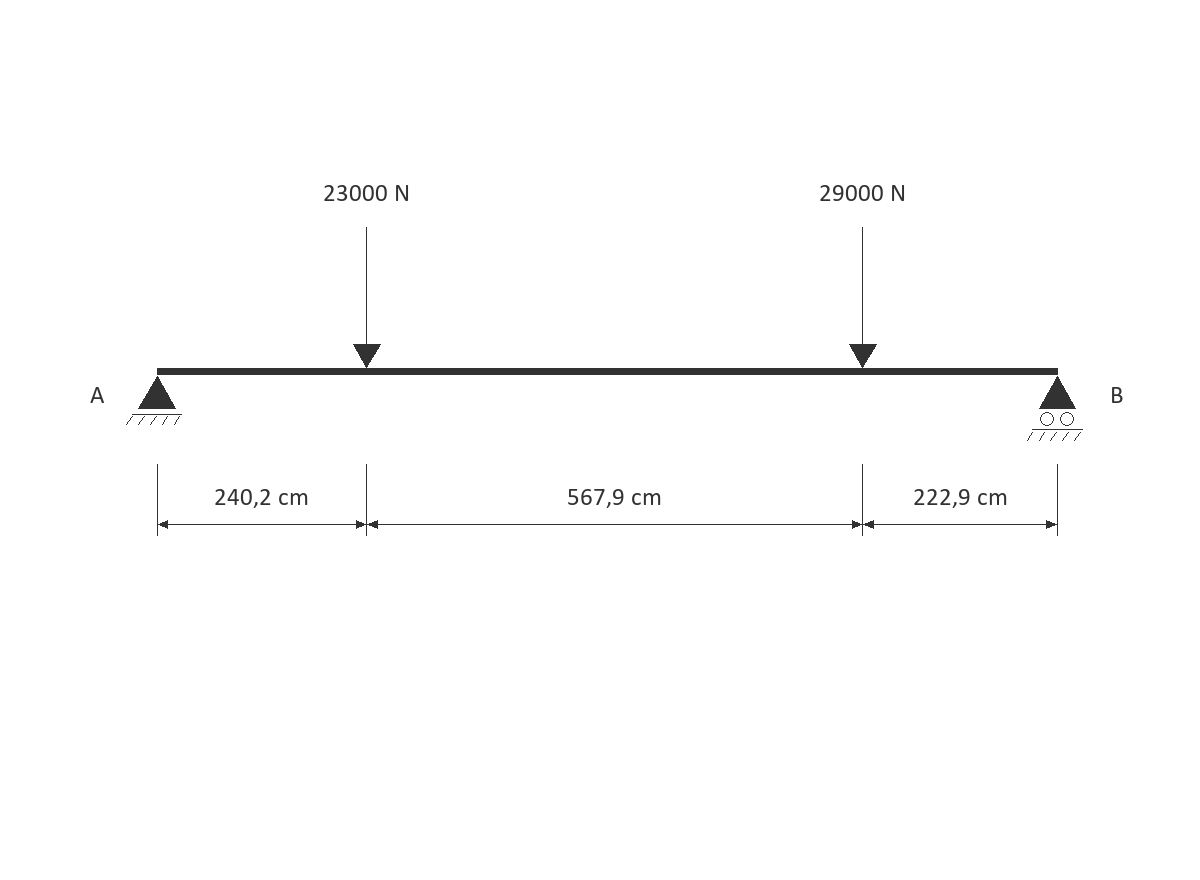pin_support: (126, 376, 182, 425)
point_load: (353, 227, 381, 368), (849, 227, 877, 368)
roller_support: (1027, 376, 1083, 441)
